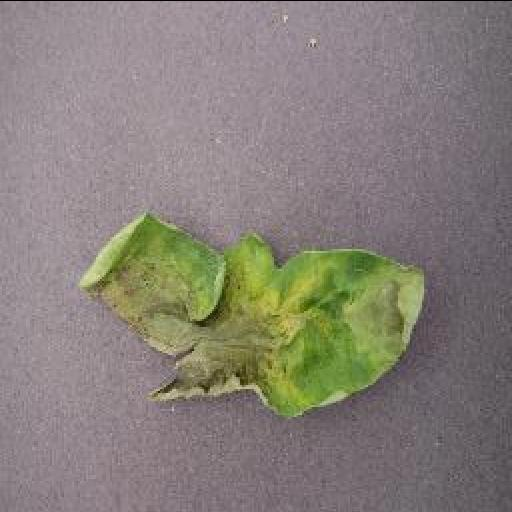disease_tomato: (78, 210, 428, 420)
